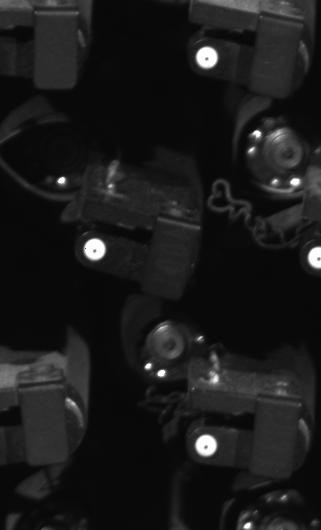fiber: (79, 235, 116, 264), (191, 43, 225, 74), (192, 432, 224, 460), (304, 238, 321, 271)
